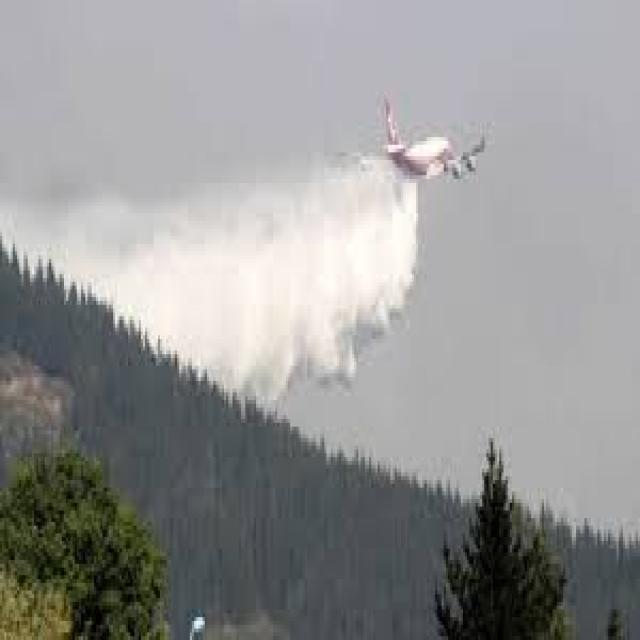Smoke: (74, 172, 422, 422)
